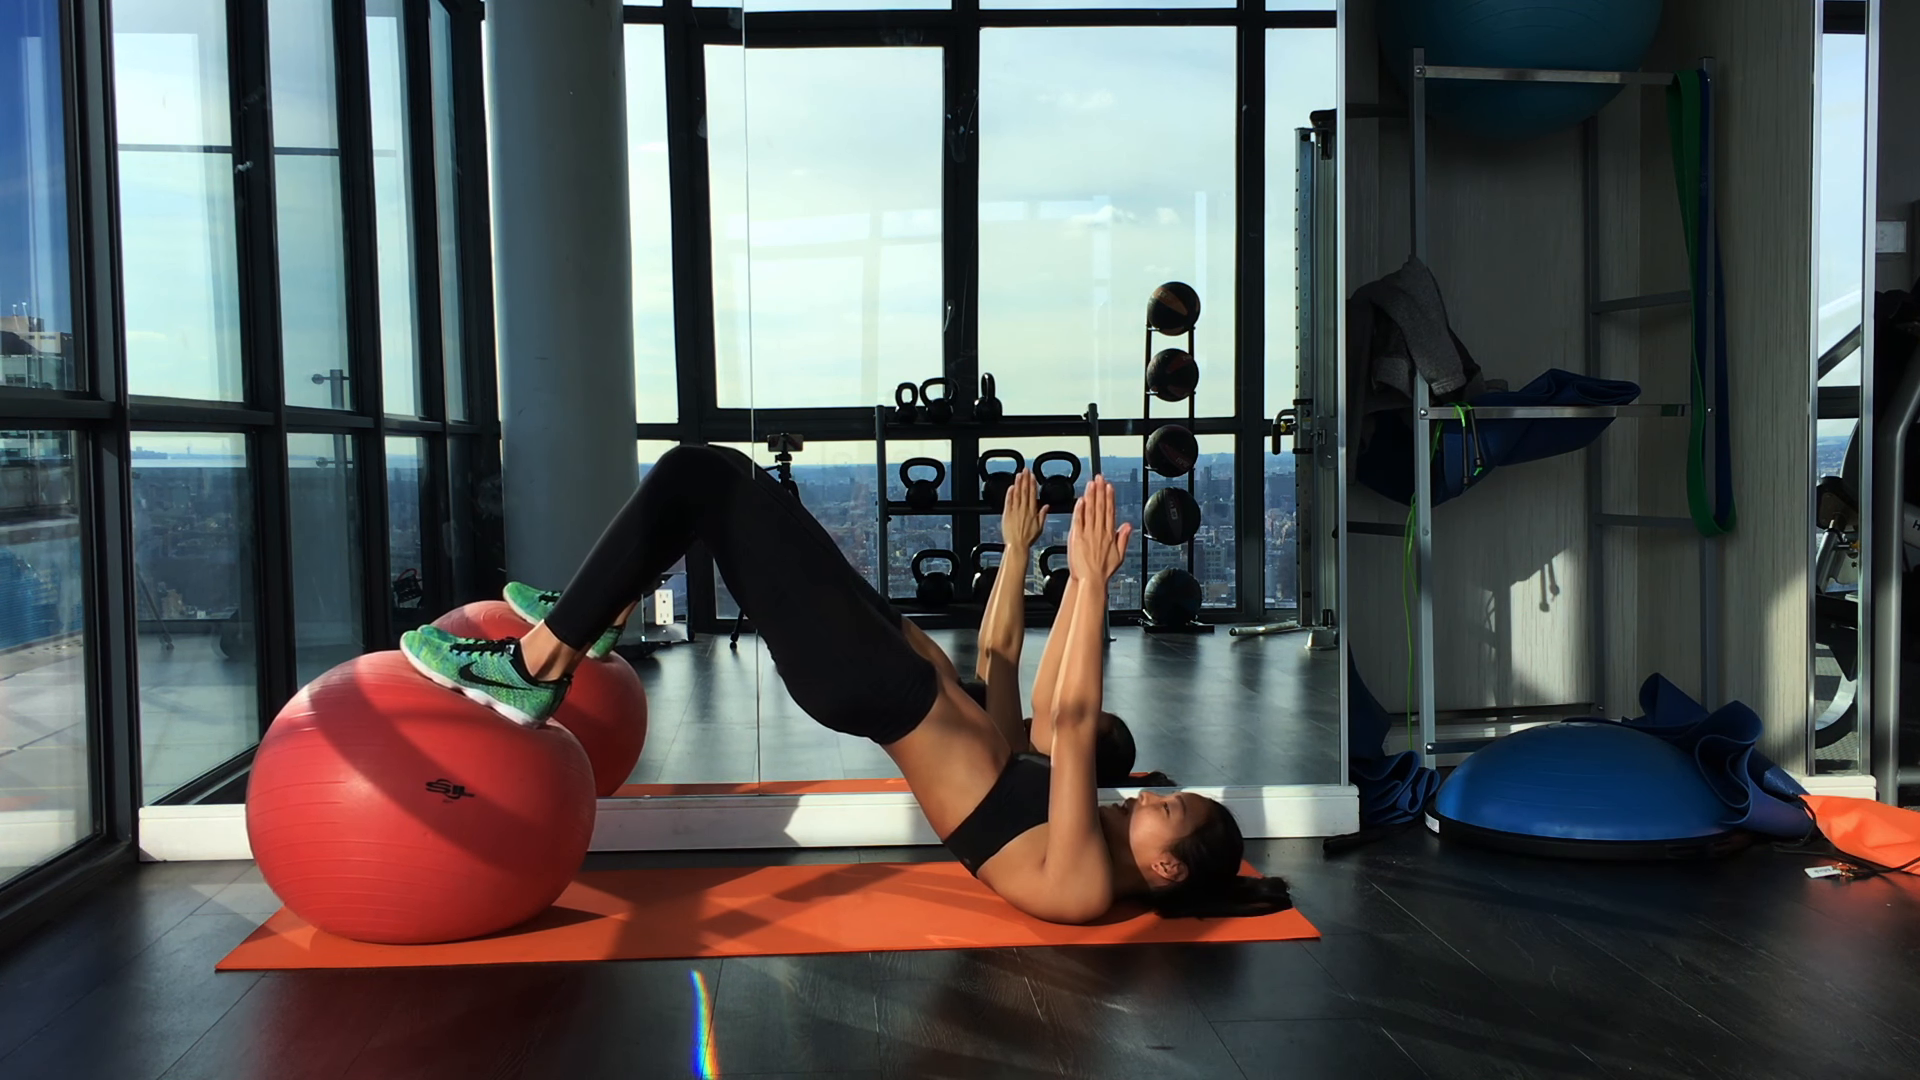yogaball: (233, 644, 607, 943)
